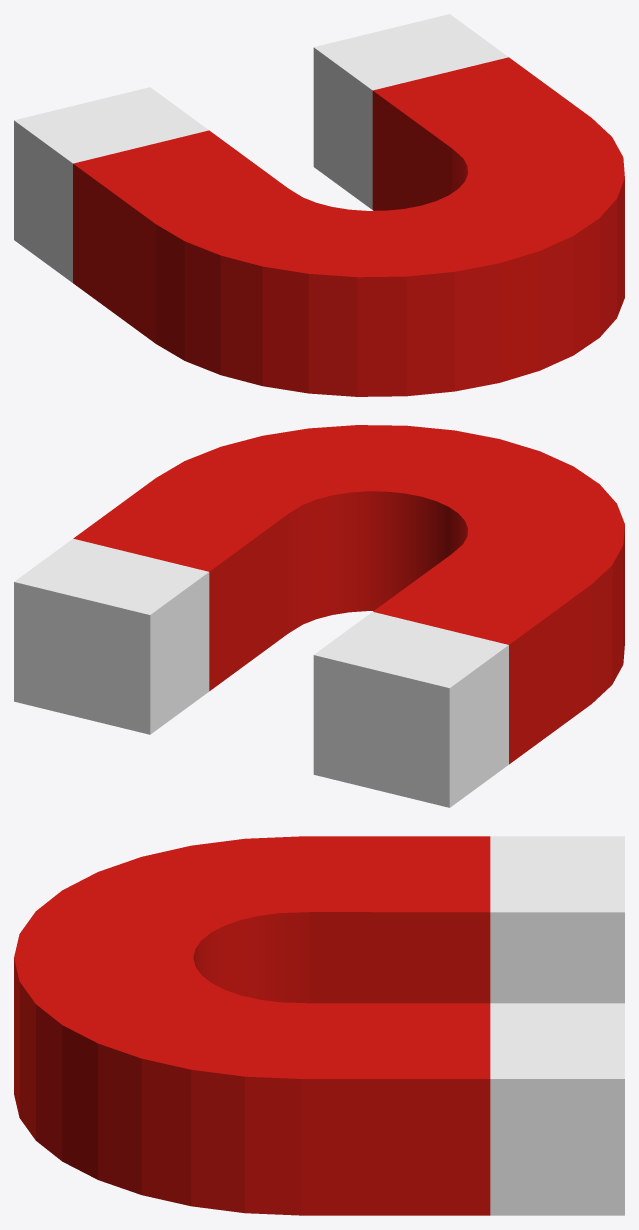
Rendered from Magnet.fbx.
The picture shows the model from 3 angles, top to bottom: view 1: azimuth 30°, elevation 25°; view 2: azimuth 150°, elevation 25°; view 3: azimuth 270°, elevation 25°; orthographic projection. The views are drawn at different scales.
Parts seen in each view (by area): view 1: Magnet; view 2: Magnet; view 3: Magnet.
Boxes of the visible parts, bbox=[...] form: Magnet: bbox=[14, 14, 624, 396]; Magnet: bbox=[14, 425, 624, 807]; Magnet: bbox=[14, 836, 624, 1215].
Size of the model in its own units: 80 by 21 by 85.15.
